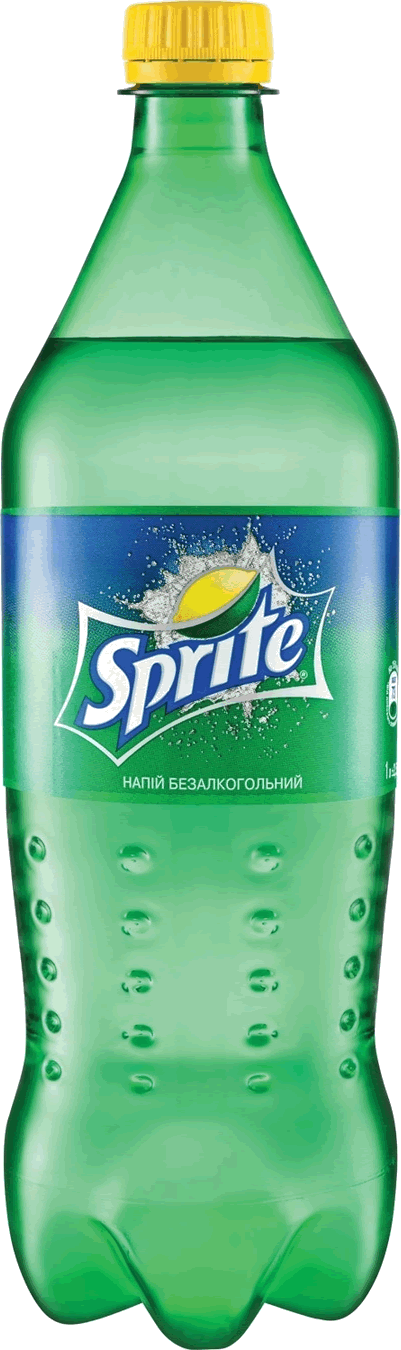Sprite: (1, 11, 399, 1330)
